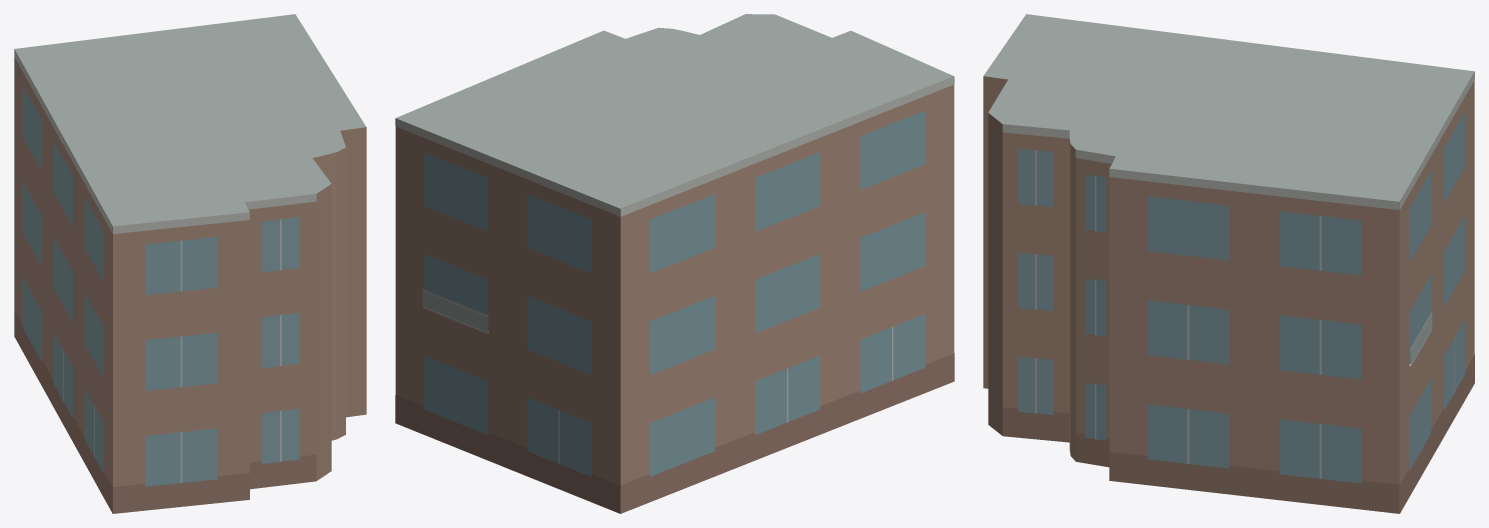
Rendered from survey-upis-32976027.glb.
3 renders of one model, left to right at view 1: azimuth 30°, elevation 25°; view 2: azimuth 150°, elevation 25°; view 3: azimuth 270°, elevation 25°, orthographic. The views are drawn at different scales.
Parts seen in each view (by area): view 1: survey-upis-32976027.tmp; view 2: survey-upis-32976027.tmp; view 3: survey-upis-32976027.tmp.
Part boxes in pixels (x1,y1,x2,y2): survey-upis-32976027.tmp: (14, 14, 366, 513); survey-upis-32976027.tmp: (395, 14, 954, 513); survey-upis-32976027.tmp: (983, 14, 1474, 513).
Size of the model in its own units: 11.82 by 9.15 by 13.07.
